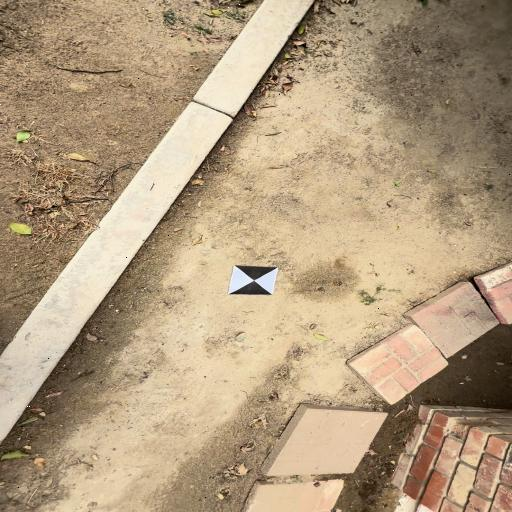target: (229, 265, 279, 295)
